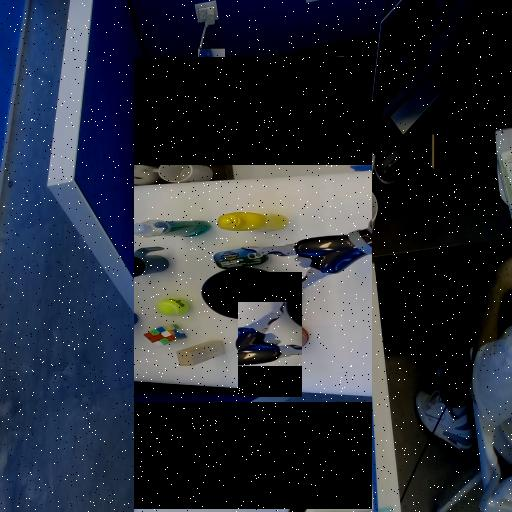bowl: (217, 250, 268, 302)
cleanser: (300, 162, 316, 241)
coffee_can: (176, 267, 214, 338)
jaco: (238, 304, 302, 366)
meat_can: (268, 245, 289, 298)
mug: (259, 143, 289, 199)
mustard_bottle: (306, 249, 324, 317)
rubik: (190, 185, 212, 207)
soup_can: (290, 97, 308, 115)
tennis_ball: (221, 188, 238, 218)
windex: (198, 49, 225, 167)
wooden_block: (171, 208, 195, 254)
workspace: (134, 169, 372, 396)
